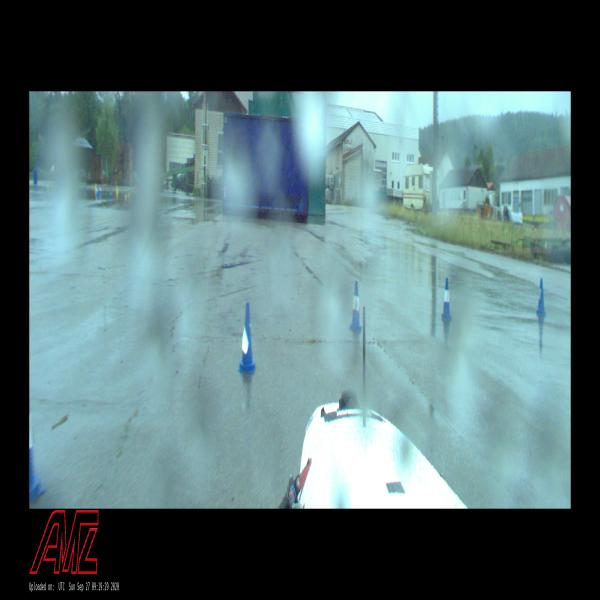blue_cone: (30, 403, 46, 504), (238, 303, 257, 373), (348, 281, 363, 332), (441, 278, 452, 319), (537, 278, 546, 316)
